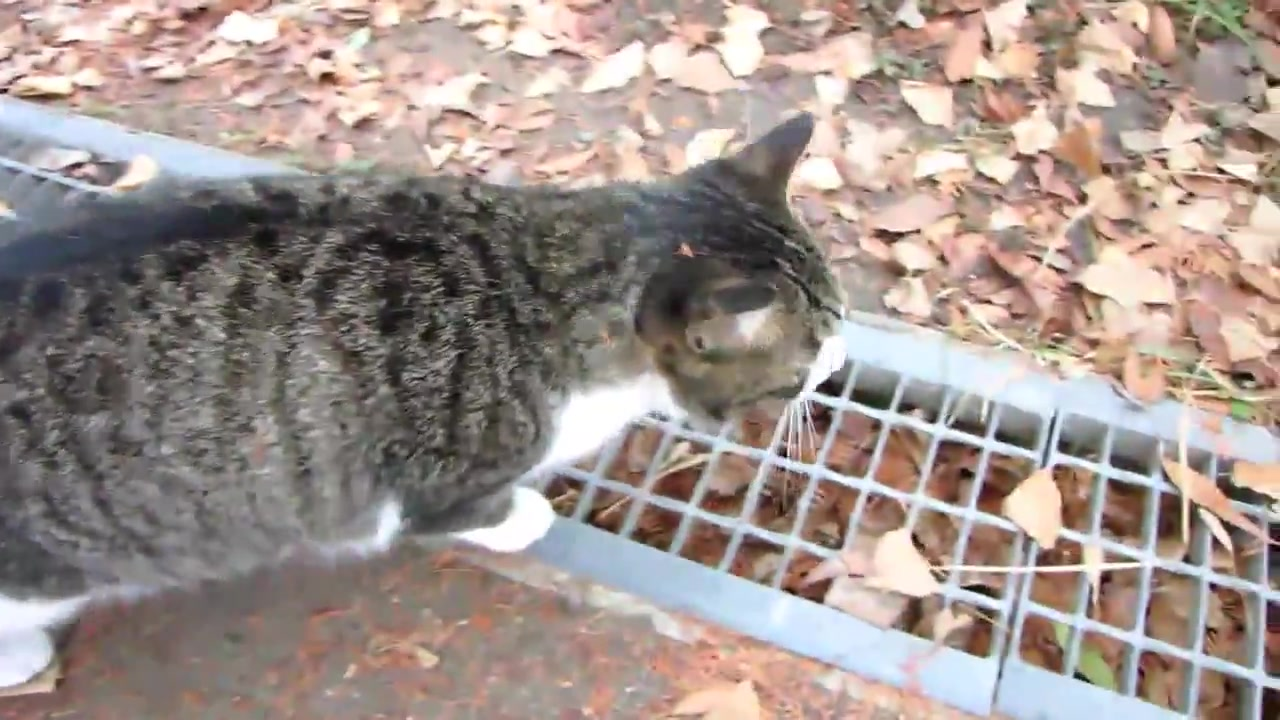cat: (1, 106, 850, 703)
